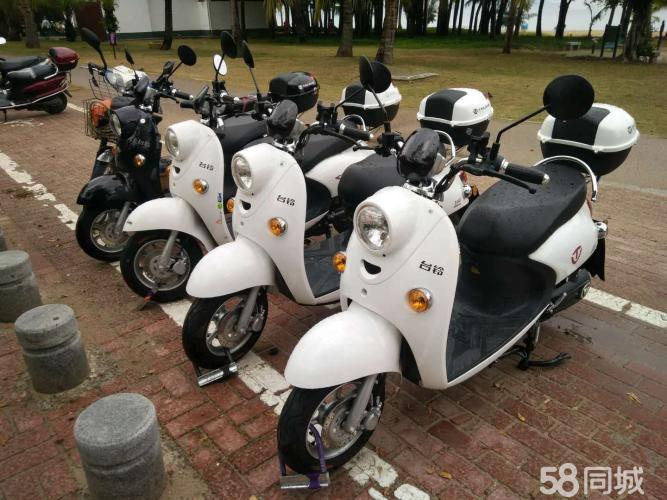电动车: (268, 76, 644, 472), (185, 43, 479, 384), (128, 43, 339, 298), (74, 33, 269, 255), (1, 36, 78, 123)
